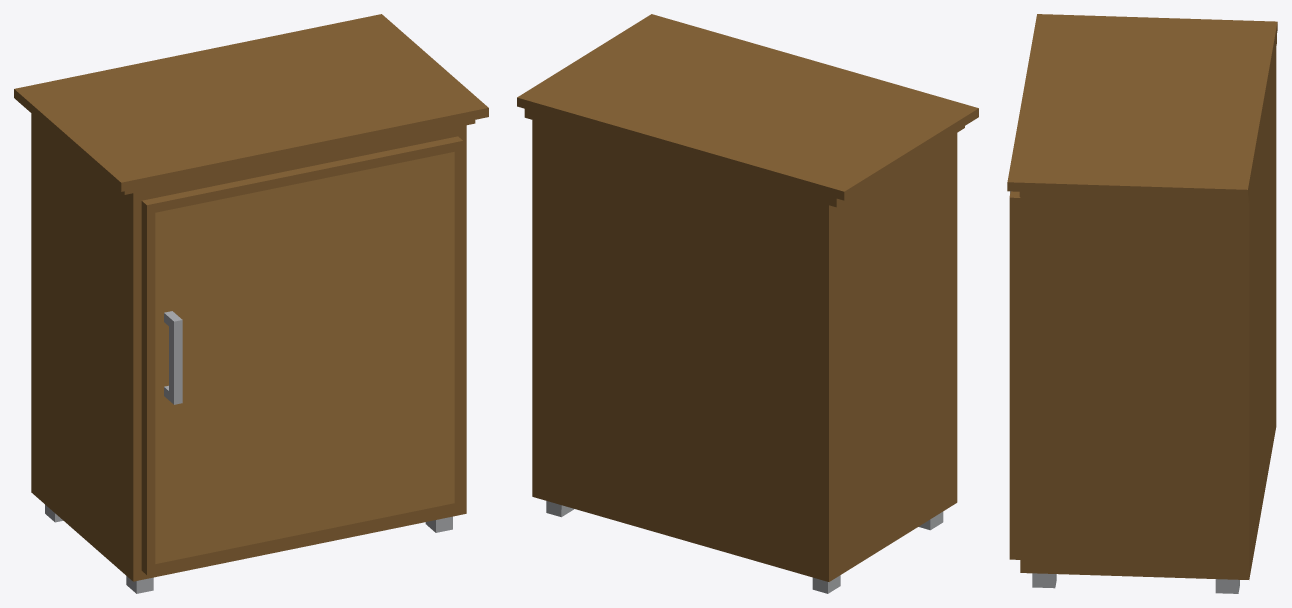
The model's file is velykatumba.001_0_lev1_lev3.glb.
3 views of the same model, side by side, from view 1: azimuth 30°, elevation 25°; view 2: azimuth 150°, elevation 25°; view 3: azimuth 270°, elevation 25° (orthographic). The views are drawn at different scales.
Parts seen in each view (by area): view 1: velykatumba.001_0_lev1_lev3; view 2: velykatumba.001_0_lev1_lev3; view 3: velykatumba.001_0_lev1_lev3.
Boxes of the visible parts, x1,y1,x2,y2 form: velykatumba.001_0_lev1_lev3: (14,14,488,593); velykatumba.001_0_lev1_lev3: (517,14,978,593); velykatumba.001_0_lev1_lev3: (1007,14,1277,593).
Bounding box in the file's own units: 2.46 × 2.71 × 1.59.
Materials: 1 (1 with a texture image).
